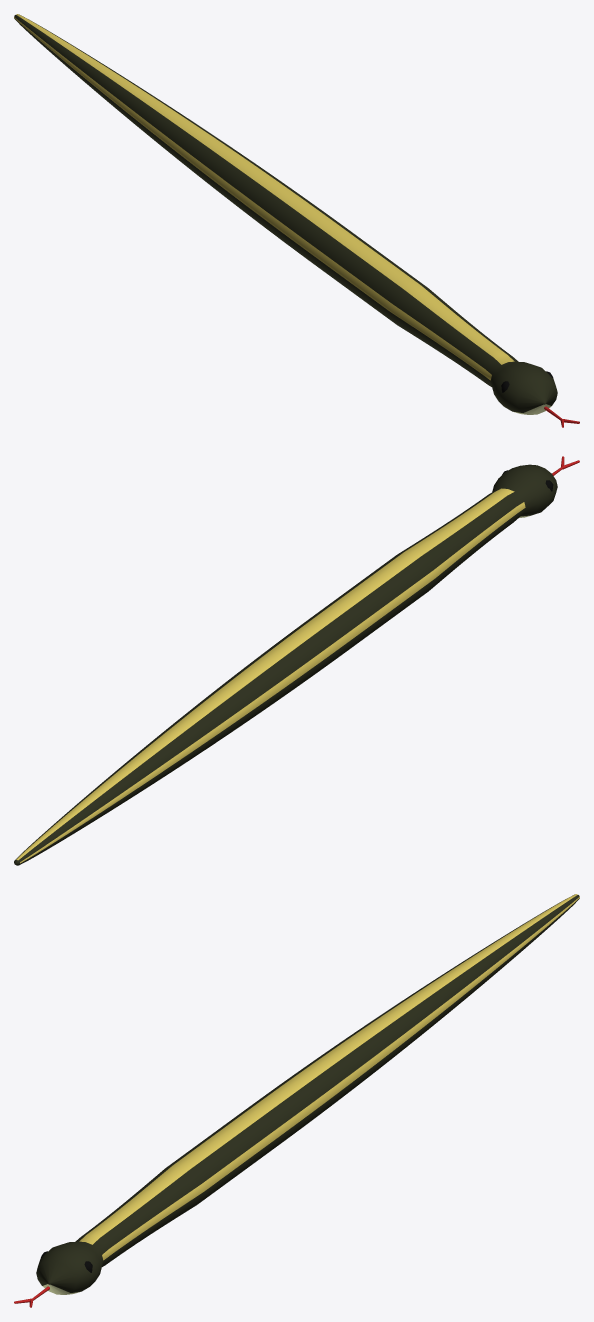
File: snake.glb
3 views of the same model, one above another, from view 1: azimuth 30°, elevation 25°; view 2: azimuth 150°, elevation 25°; view 3: azimuth 330°, elevation 25° (orthographic).
Parts seen in each view (by area): view 1: snake; view 2: snake; view 3: snake.
Part boxes in pixels (x1,y1,x2,y2): snake: (14, 14, 579, 427); snake: (14, 456, 579, 865); snake: (14, 894, 579, 1307).
Bounding box in the file's own units: 0.0518 × 0.0404 × 0.9495.
